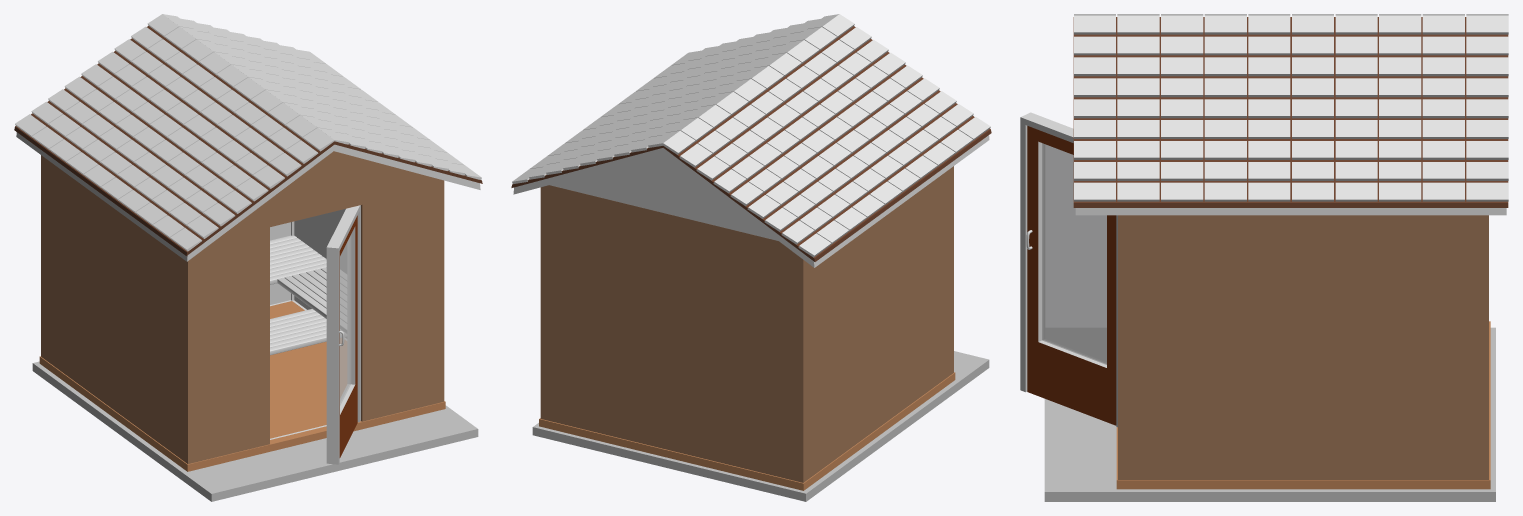
Rendered from sauna.dae.
3 renders of one model, left to right at view 1: azimuth 30°, elevation 25°; view 2: azimuth 150°, elevation 25°; view 3: azimuth 270°, elevation 25°, orthographic. The views are drawn at different scales.
Parts seen in each view (by area): view 1: Cube, Cube.2 (×3), Cube.1, Cube.2_1 (×2), Polygon, Cube.3 (×2), Door_Glass, Cube.2_0 (×2), Cube.1_0, Cube.1_3, Cube.2_7; view 2: Cube, Cube.2_1 (×2), Polygon.1, Cube.1, Cube.2, Cube.2_0 (×2); view 3: Cube, Cube.2_0 (×2), Cube.1, Door_Glass, Cube.3 (×2), Cube.2 (×3), Cube.3_0, Cube.3_8, Cube.3_10, Cube.3_18, Cube.3_20, Cube.3_28 (+84 smaller).
Part boxes in pixels (left/top/right/bottom): Cube: left=41, top=155, right=444, bottom=463; Cube.2 (×3): left=39, top=205, right=445, bottom=471; Cube.1: left=32, top=361, right=478, bottom=501; Cube.2_1 (×2): left=14, top=26, right=334, bottom=261; Polygon: left=238, top=151, right=429, bottom=223; Cube.3 (×2): left=339, top=211, right=359, bottom=457; Door_Glass: left=340, top=235, right=351, bottom=405; Cube.2_0 (×2): left=333, top=141, right=482, bottom=189; Cube.1_0: left=294, top=209, right=346, bottom=337; Cube.1_3: left=270, top=222, right=290, bottom=304; Cube.2_7: left=277, top=277, right=346, bottom=333; Cube: left=540, top=166, right=953, bottom=482; Cube.2_1 (×2): left=663, top=26, right=991, bottom=267; Polygon.1: left=549, top=154, right=777, bottom=240; Cube.1: left=532, top=351, right=989, bottom=501; Cube.2: left=539, top=372, right=955, bottom=490; Cube.2_0 (×2): left=511, top=146, right=663, bottom=194; Cube: left=1118, top=215, right=1488, bottom=479; Cube.2_0 (×2): left=1073, top=17, right=1508, bottom=215; Cube.1: left=1044, top=327, right=1495, bottom=501; Door_Glass: left=1042, top=143, right=1106, bottom=364; Cube.3 (×2): left=1025, top=125, right=1116, bottom=425; Cube.2 (×3): left=1020, top=112, right=1490, bottom=489; Cube.3_0: left=1466, top=15, right=1508, bottom=34; Cube.3_8: left=1117, top=15, right=1159, bottom=34; Cube.3_10: left=1466, top=36, right=1508, bottom=55; Cube.3_18: left=1117, top=36, right=1159, bottom=55; Cube.3_20: left=1466, top=57, right=1508, bottom=76; Cube.3_28: left=1117, top=57, right=1159, bottom=76.
Size of the model in its own units: 660 by 683 by 746.
